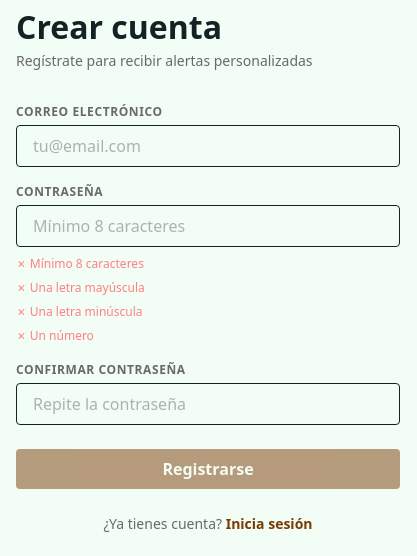
Test case: RegistroPage › muestra aviso si las contraseñas no coinciden
Step 1. Type "Password1" into the password field with placeholder "Mínimo 8 caracteres" → (208, 226), box 16,205 -> 400,247
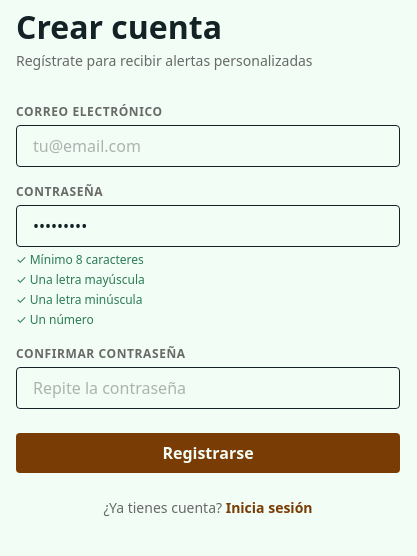
Step 2. Type "Different1" into the password field with placeholder "Repite la contraseña" → (208, 388), box 16,367 -> 400,409
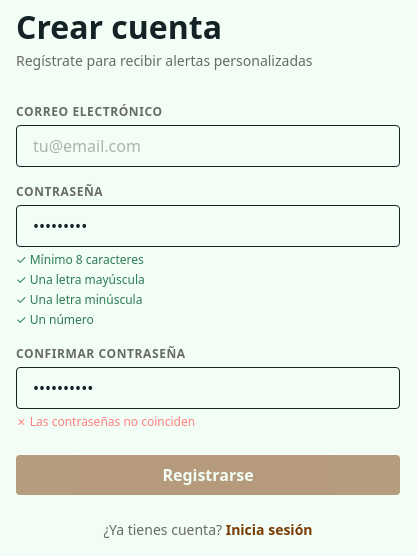
Expected: the text "Las contraseñas no coinciden" is shown, 30,413 -> 195,430
